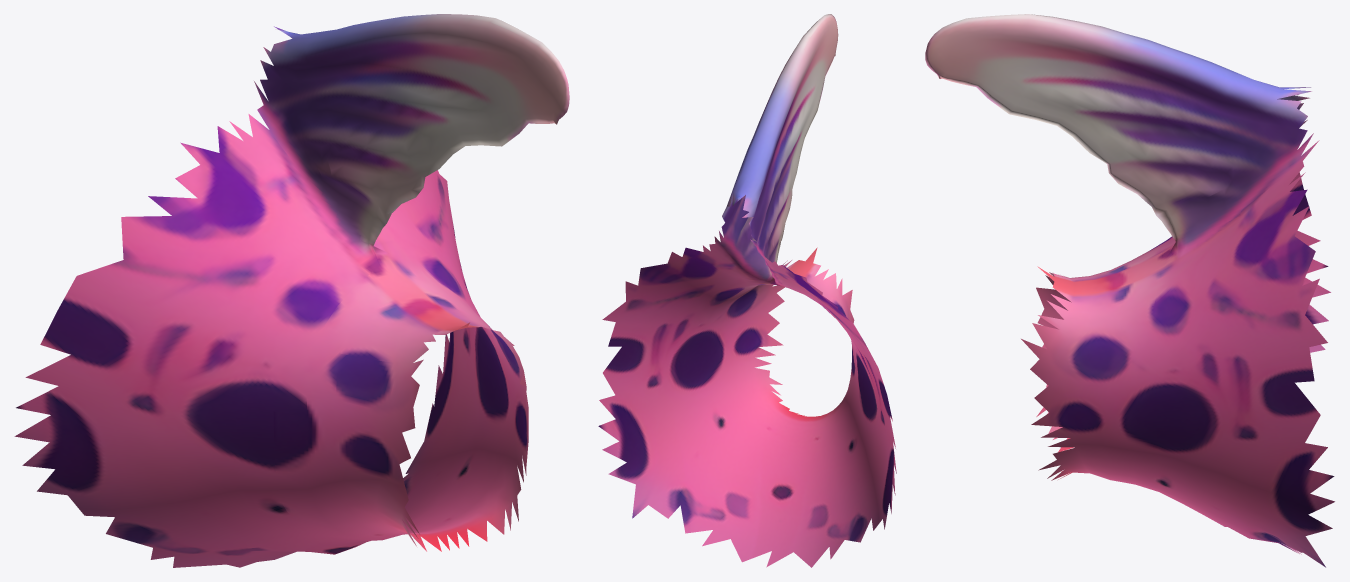
File: Cola.obj
3 renders of one model, left to right at view 1: azimuth 30°, elevation 25°; view 2: azimuth 150°, elevation 25°; view 3: azimuth 270°, elevation 25°, orthographic. The views are drawn at different scales.
Visible parts, largest first — view 1: Cola; view 2: Cola; view 3: Cola.
Part boxes in pixels (x1,y1,x2,y2): Cola: (14,14,569,567); Cola: (598,14,896,567); Cola: (925,14,1334,567).
Size of the model in its own units: 22.74 by 31.98 by 21.49.
